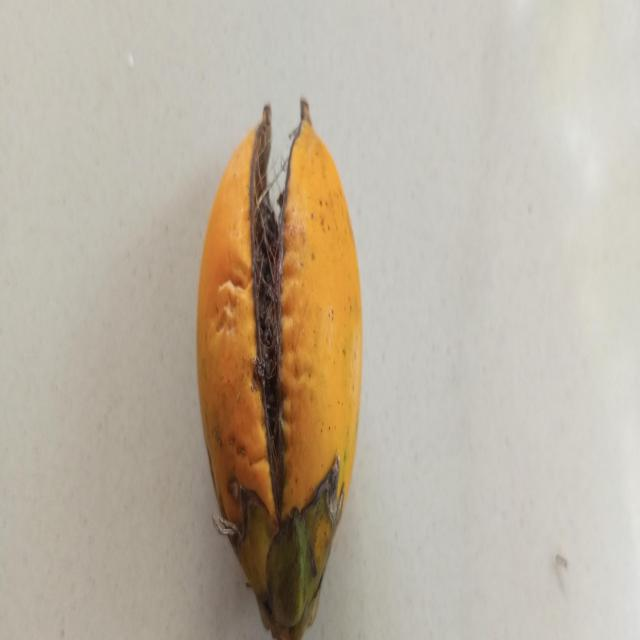damaged: (196, 103, 365, 640)
